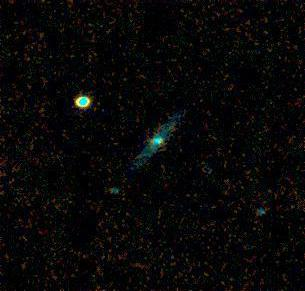star: (96, 177, 126, 207)
